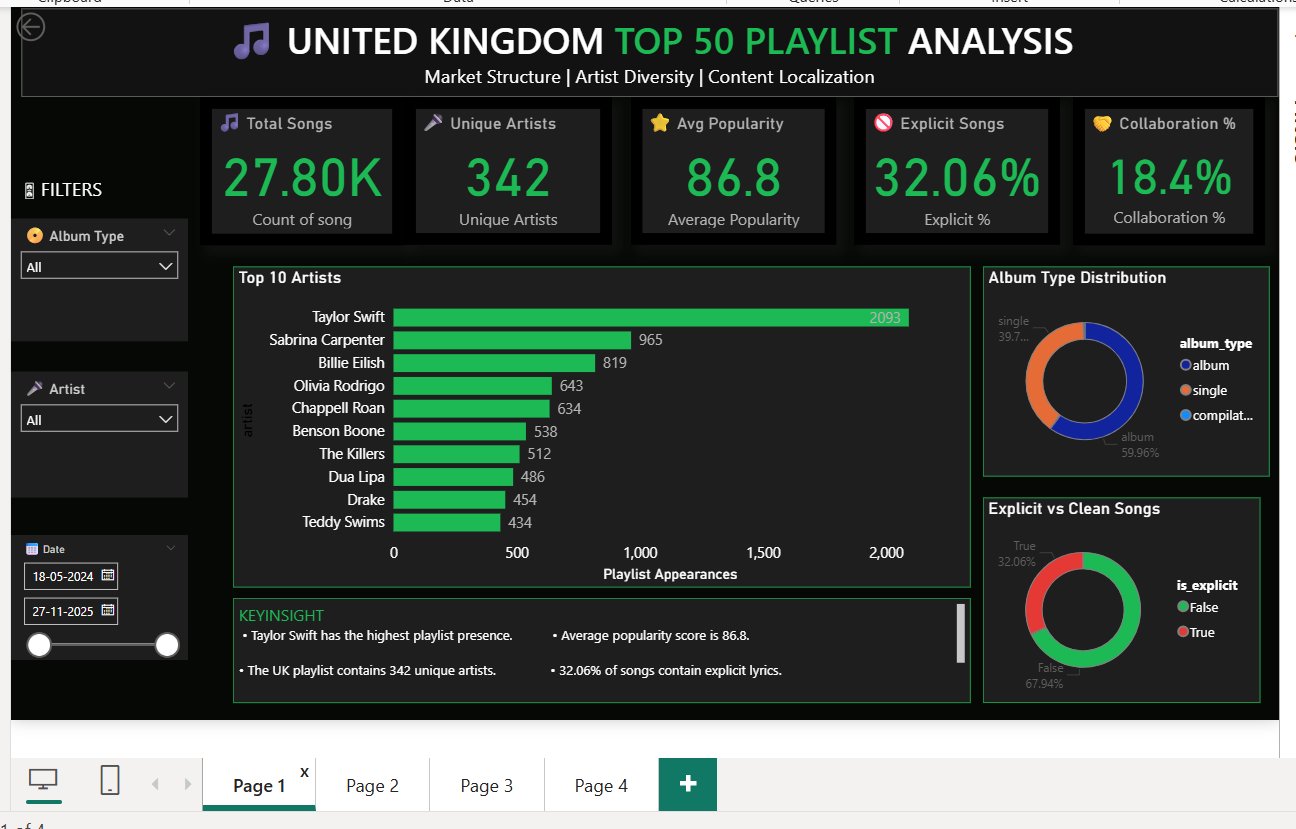

The page's visual inventory and layout, read from the dashboard file:
{"tool":"powerbi","page":{"name":"Page 1","canvas":[1280,720],"ordinal":0},"visuals":[{"type":"textbox","box":[10.6,1.5,1268.9,89.3],"z":0},{"type":"card","title":"🎵 Total Songs","fields":{"Values":["CountNonNull(Atlantic_United_Kingdom.song)"]},"box":[190.8,90.9,205.9,149.9],"z":1000},{"type":"card","title":"🎤 Unique Artists","fields":{"Values":["Atlantic_United_Kingdom.Unique Artists"]},"box":[396.9,90.7,209.8,149.3],"z":2000},{"type":"card","title":"⭐ Avg Popularity","fields":{"Values":["Atlantic_United_Kingdom.Average Popularity"]},"box":[625.5,90.7,207.9,149.3],"z":3000},{"type":"card","title":"🚫 Explicit Songs","fields":{"Values":["Atlantic_United_Kingdom.Explicit %"]},"box":[850.4,90.7,207.9,149.3],"z":4000},{"type":"slicer","fields":{"Values":["Atlantic_United_Kingdom.album_type"]},"box":[0,213.5,178.7,124.2],"z":5000},{"type":"actionButton","box":[0,0,100,40],"z":6000},{"type":"slicer","fields":{"Values":["Atlantic_United_Kingdom.artist"]},"box":[0,368,178.7,127.2],"z":7000},{"type":"slicer","fields":{"Values":["Atlantic_United_Kingdom.date"]},"box":[0,533,178.7,125.7],"z":8000},{"type":"clusteredBarChart","title":"Top 10 Artists","fields":{"Category":["Atlantic_United_Kingdom.artist"],"Y":["CountNonNull(Atlantic_United_Kingdom.song)"]},"box":[224.1,262,745,324],"z":9000},{"type":"donutChart","title":"Album Type Distribution","fields":{"Category":["Atlantic_United_Kingdom.album_type"],"Y":["CountNonNull(Atlantic_United_Kingdom.song)"]},"box":[981.2,262,289.2,212],"z":10000},{"type":"donutChart","title":"Explicit vs Clean Songs","fields":{"Category":["Atlantic_United_Kingdom.is_explicit"],"Y":["CountNonNull(Atlantic_United_Kingdom.song)"]},"box":[981.2,495.1,280.1,207.4],"z":11000},{"type":"card","title":"🤝 Collaboration %","fields":{"Values":["Atlantic_United_Kingdom.Collaboration %"]},"box":[1072.1,90.9,193.8,149.9],"z":12000},{"type":"textbox","box":[7.6,165,99.9,36.3],"z":13000},{"type":"textbox","box":[224.1,596.6,745,106],"z":14000}]}

Visuals, with their boxes on the page's 1280x720 design canvas (x1, y1, x2, y2). These are canvas units, not pixel positions in the 1296x829 screenshot, which may show the page scaled, cropped or inside an application window:
textbox: BBox(11, 2, 1280, 91)
"🎵 Total Songs" card: BBox(191, 91, 397, 241)
"🎤 Unique Artists" card: BBox(397, 91, 607, 240)
"⭐ Avg Popularity" card: BBox(626, 91, 833, 240)
"🚫 Explicit Songs" card: BBox(850, 91, 1058, 240)
slicer - Atlantic_United_Kingdom.album_type: BBox(0, 214, 179, 338)
actionButton: BBox(0, 0, 100, 40)
slicer - Atlantic_United_Kingdom.artist: BBox(0, 368, 179, 495)
slicer - Atlantic_United_Kingdom.date: BBox(0, 533, 179, 659)
"Top 10 Artists" clusteredBarChart: BBox(224, 262, 969, 586)
"Album Type Distribution" donutChart: BBox(981, 262, 1270, 474)
"Explicit vs Clean Songs" donutChart: BBox(981, 495, 1261, 702)
"🤝 Collaboration %" card: BBox(1072, 91, 1266, 241)
textbox: BBox(8, 165, 108, 201)
textbox: BBox(224, 597, 969, 703)
